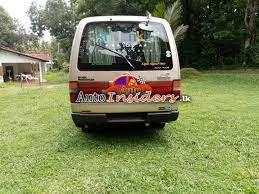van: (67, 13, 186, 135)
